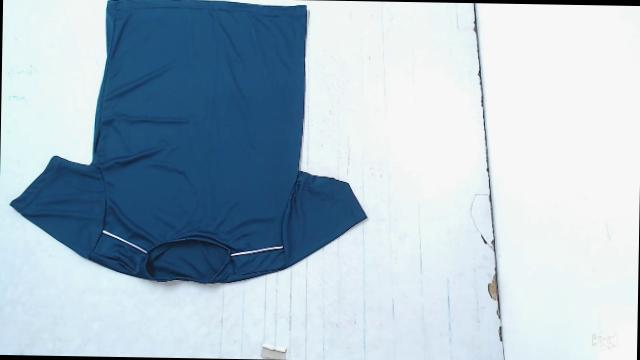new-garment: (11, 0, 366, 283)
